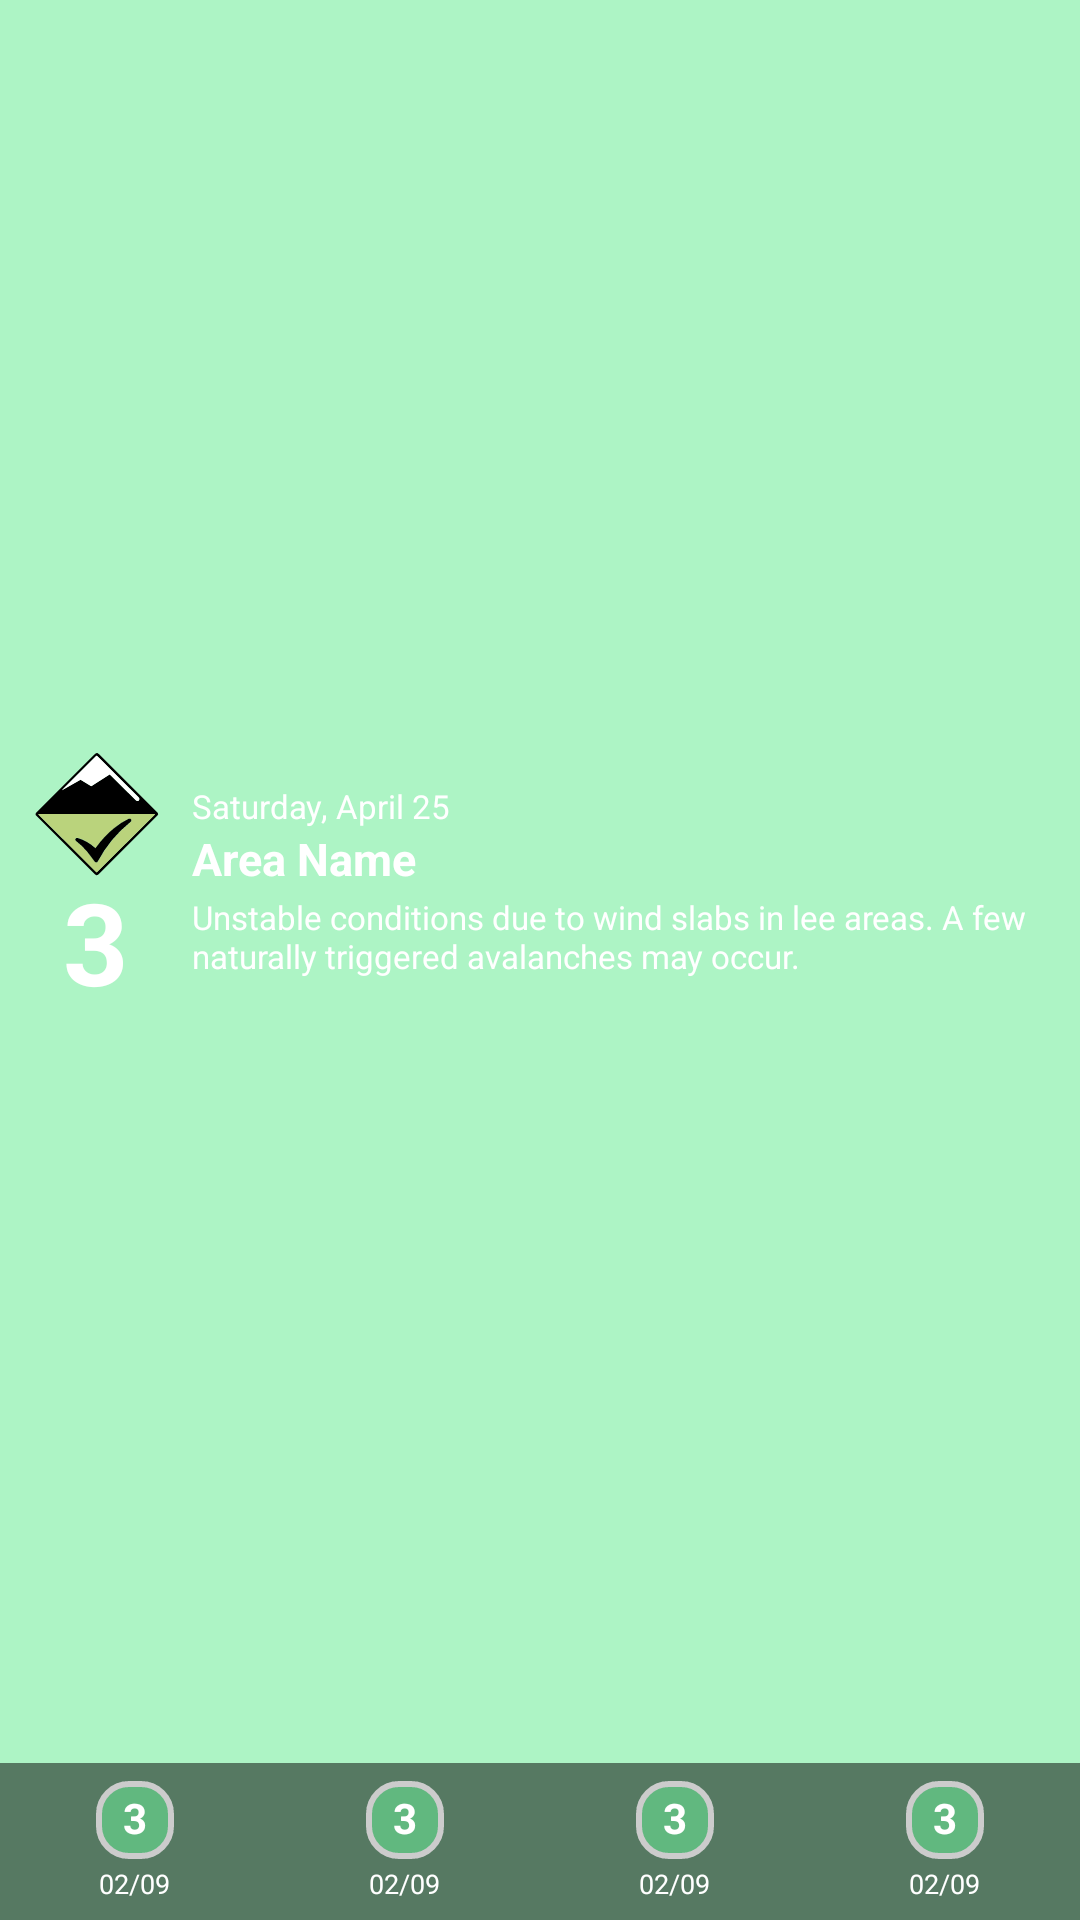

Where to tap for icons on this 1080 × 1920 app screen, as [x,y]:
level: [96,814]
